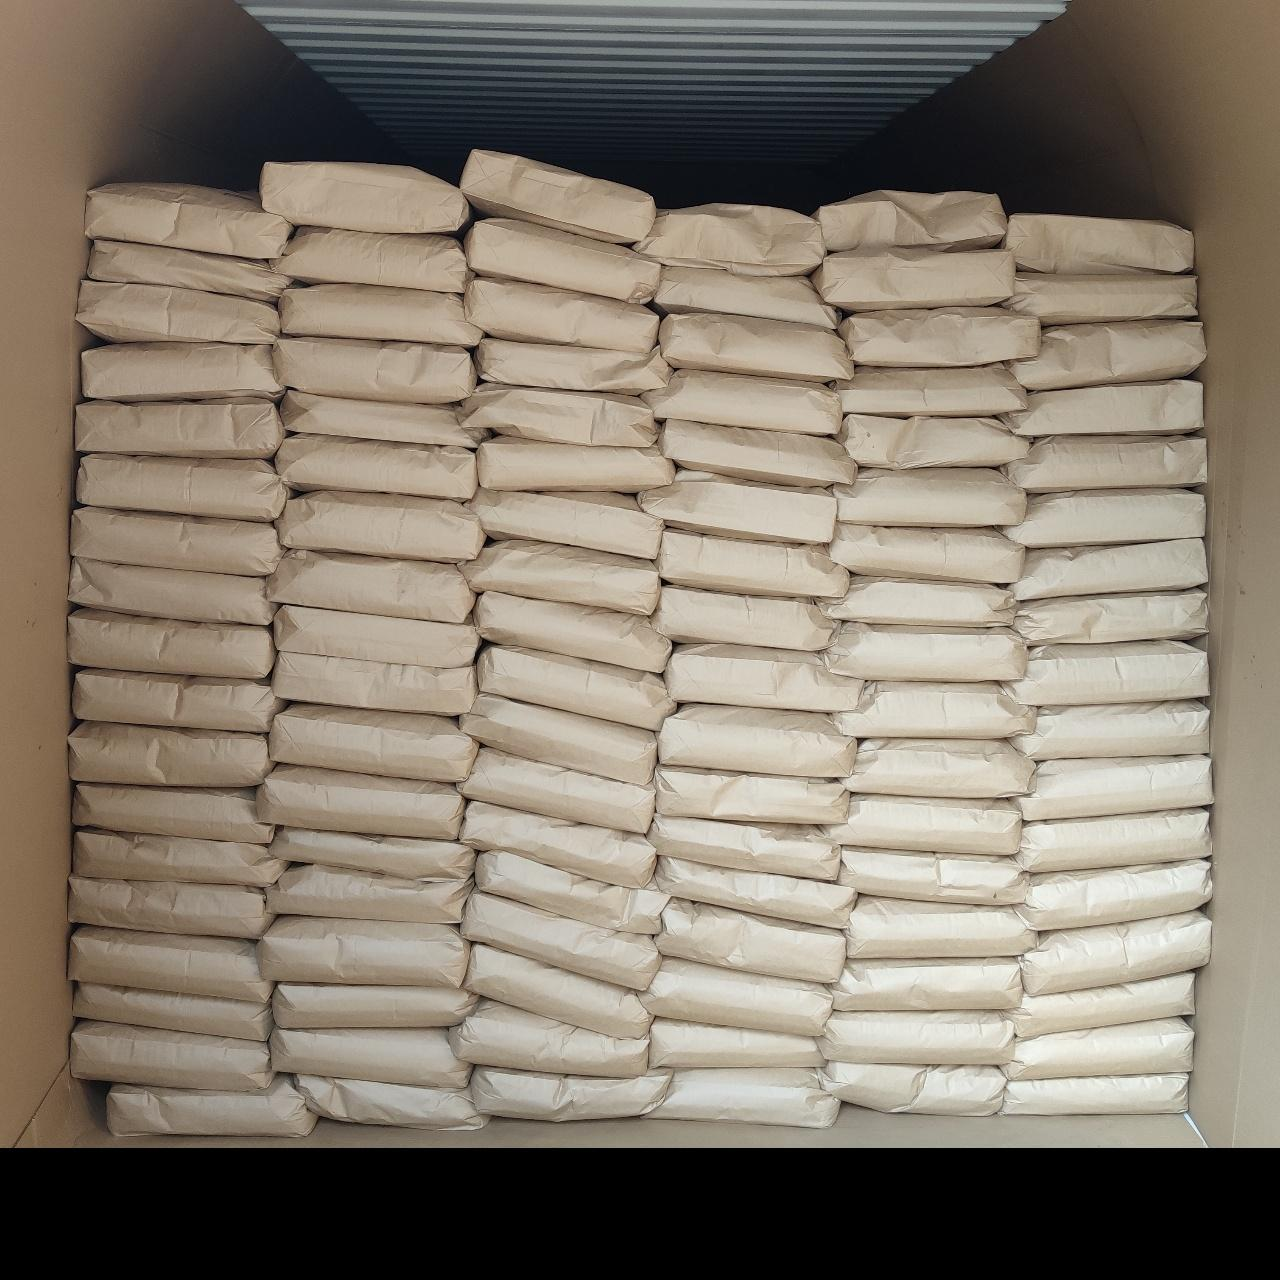sack: (462, 893, 658, 989), (462, 151, 655, 245), (465, 944, 648, 1038), (460, 696, 655, 783), (478, 646, 674, 730), (462, 802, 655, 887), (461, 748, 653, 833), (466, 218, 659, 302), (1021, 911, 1210, 995), (269, 704, 477, 780), (85, 182, 291, 258), (656, 900, 846, 982), (476, 852, 668, 933), (474, 592, 668, 672), (256, 916, 468, 987), (257, 766, 463, 839), (640, 958, 832, 1036), (69, 926, 271, 1000), (267, 550, 473, 622), (450, 1002, 647, 1077), (261, 162, 469, 233), (658, 704, 856, 778), (275, 491, 484, 561), (70, 507, 282, 576), (654, 856, 856, 928), (637, 470, 836, 543), (461, 540, 657, 614), (71, 1020, 272, 1092), (1002, 320, 1205, 391), (465, 277, 657, 352), (69, 609, 274, 679), (76, 454, 289, 521), (68, 557, 274, 625), (466, 488, 663, 559), (634, 203, 824, 275), (664, 643, 862, 712), (1019, 860, 1211, 931), (72, 669, 283, 733), (272, 337, 476, 403), (272, 226, 471, 293), (647, 811, 840, 880), (656, 529, 848, 598), (642, 369, 842, 435), (660, 314, 853, 382), (1001, 642, 1209, 705), (659, 419, 857, 485), (68, 722, 272, 786), (68, 874, 272, 938), (276, 434, 476, 499), (812, 247, 1014, 311), (272, 652, 476, 715), (1015, 756, 1212, 821), (457, 384, 657, 448), (76, 280, 279, 343), (107, 1076, 320, 1136), (279, 284, 481, 347), (273, 605, 479, 666), (75, 398, 284, 458), (281, 389, 492, 448), (1015, 809, 1211, 872), (1010, 538, 1207, 600), (1008, 973, 1193, 1039), (822, 794, 1021, 855), (814, 190, 1007, 252), (267, 865, 472, 923), (839, 307, 1040, 366), (1002, 1018, 1193, 1080), (271, 1027, 468, 1087), (73, 830, 284, 886), (847, 896, 1037, 958), (87, 241, 290, 299), (651, 586, 834, 650), (1011, 701, 1209, 760), (82, 343, 283, 401), (1004, 490, 1205, 548), (72, 784, 272, 842), (825, 622, 1027, 679), (829, 524, 1024, 583), (73, 983, 271, 1041), (832, 682, 1036, 738), (1003, 214, 1192, 274), (477, 436, 674, 493), (648, 1068, 838, 1127), (1002, 379, 1202, 435), (469, 1066, 672, 1121), (1004, 437, 1207, 492), (842, 739, 1033, 797), (654, 266, 834, 327), (475, 338, 671, 394), (1012, 589, 1207, 645), (294, 1074, 487, 1129), (839, 846, 1028, 902), (656, 767, 848, 822), (834, 469, 1026, 524), (269, 827, 473, 878), (819, 1010, 1014, 1063), (836, 364, 1027, 417), (820, 1063, 1006, 1116), (833, 958, 1022, 1010), (1001, 274, 1196, 324), (841, 414, 1028, 466), (819, 576, 1015, 625), (273, 983, 478, 1028), (647, 1018, 821, 1067), (1002, 1075, 1188, 1114)
